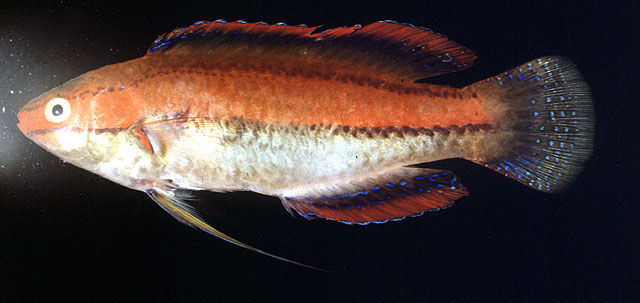fish: (17, 19, 595, 270)
